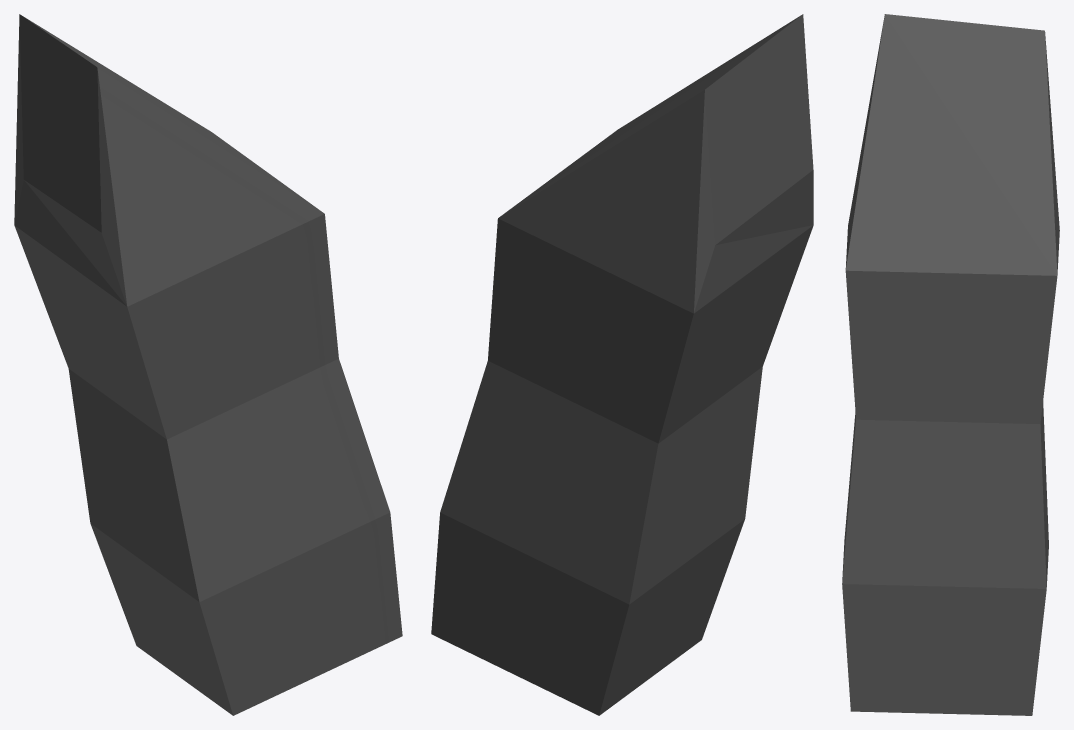
Rendered from R_Arm.obj.
3 renders of one model, left to right at view 1: azimuth 30°, elevation 25°; view 2: azimuth 150°, elevation 25°; view 3: azimuth 270°, elevation 25°, orthographic. The views are drawn at different scales.
Visible parts, largest first — view 1: 立方体; view 2: 立方体; view 3: 立方体.
Boxes of the visible parts, x1=… form: 立方体: x1=14, y1=14, x2=402, y2=715; 立方体: x1=431, y1=14, x2=813, y2=715; 立方体: x1=842, y1=14, x2=1059, y2=715.
Bounding box in the file's own units: 0.6301 × 1.38 × 0.4458.
Materials: 1 (1 with a texture image).
